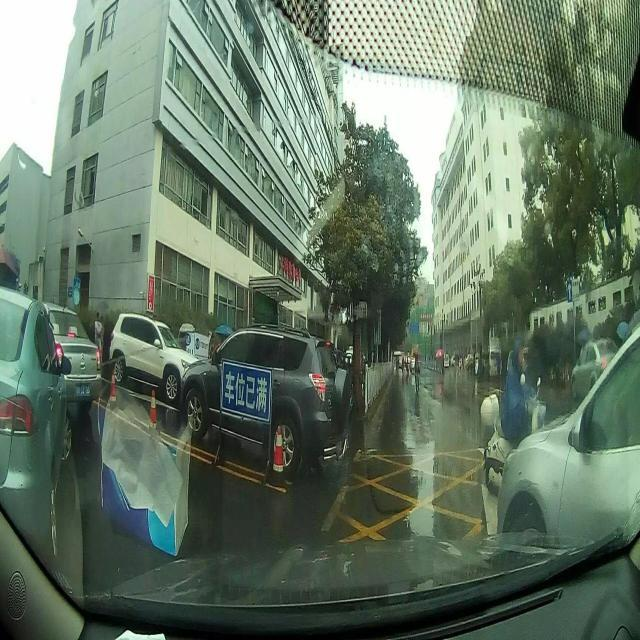car: (176, 328, 352, 471), (110, 302, 201, 400)
